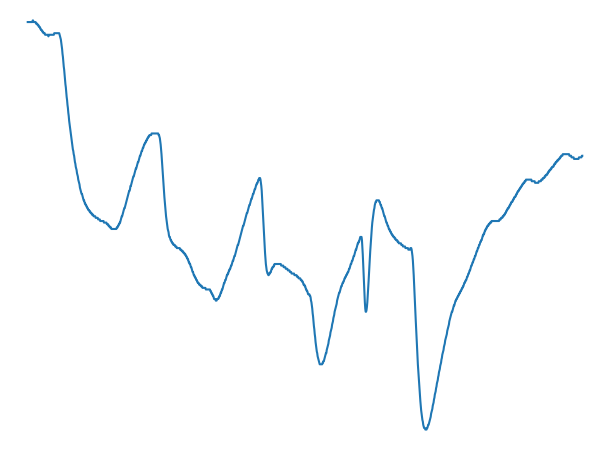decrease: (44, 23, 67, 50), (398, 233, 417, 264), (251, 173, 267, 198), (150, 128, 165, 149)
increase: (206, 274, 230, 306), (103, 211, 125, 233)
